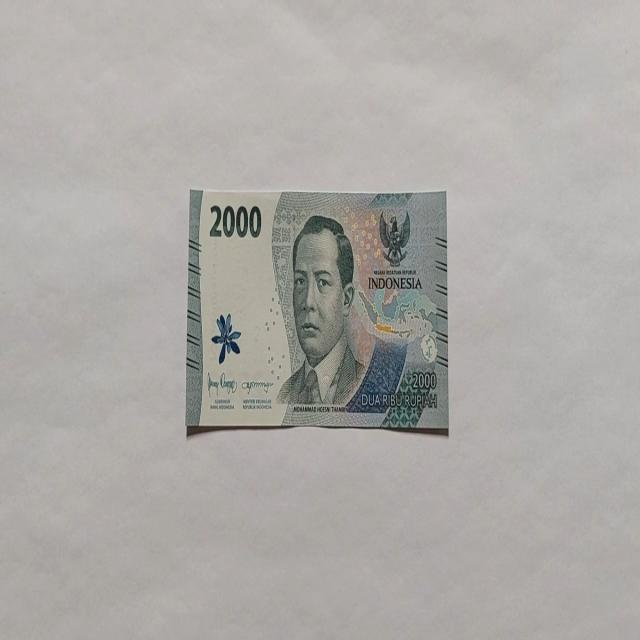dua ribu rupiah: (185, 186, 448, 434), (274, 212, 368, 412)
